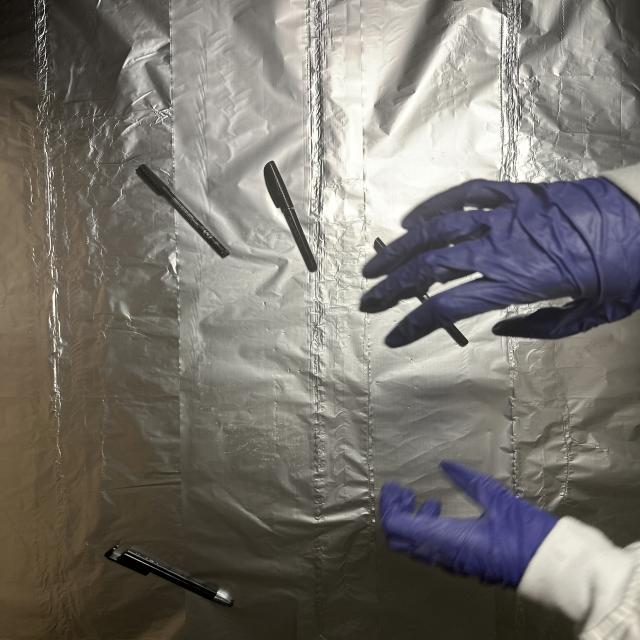gloves_contaminated: (361, 178, 640, 348), (380, 462, 558, 588)
